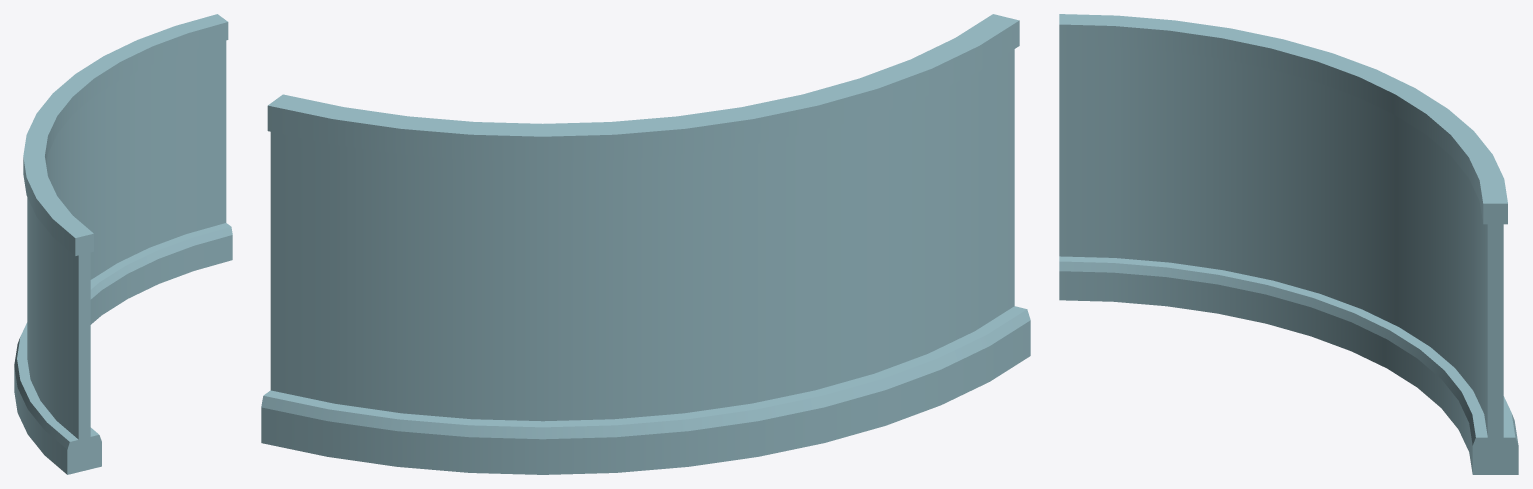
The model's file is stoneWallCurve.obj.
The picture shows the model from 3 angles, left to right: view 1: azimuth 30°, elevation 25°; view 2: azimuth 150°, elevation 25°; view 3: azimuth 270°, elevation 25°; orthographic projection. The views are drawn at different scales.
Parts seen in each view (by area): view 1: stoneWallCurve; view 2: stoneWallCurve; view 3: stoneWallCurve.
Part boxes in pixels (x1,y1,x2,y2): stoneWallCurve: (14,14,232,474); stoneWallCurve: (261,14,1030,474); stoneWallCurve: (1059,14,1518,474).
Size of the model in its own units: 1 by 0.6519 by 1.
